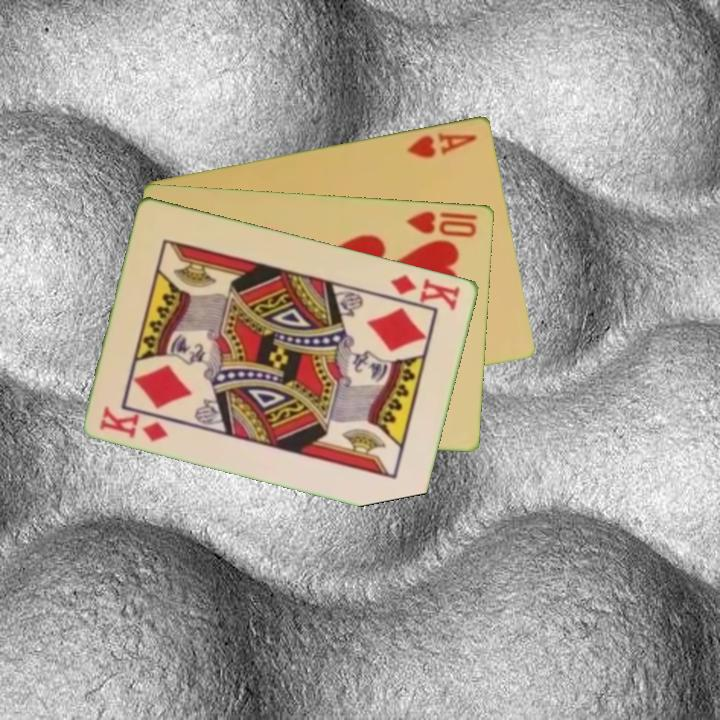10h: (403, 207, 481, 240)
Ah: (403, 128, 480, 161)
Kd: (96, 402, 172, 445), (387, 271, 464, 313)
